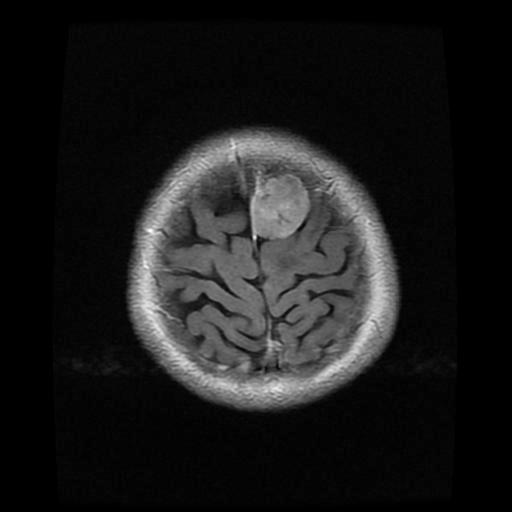Tumour-Meningioma: (241, 176, 314, 253)
